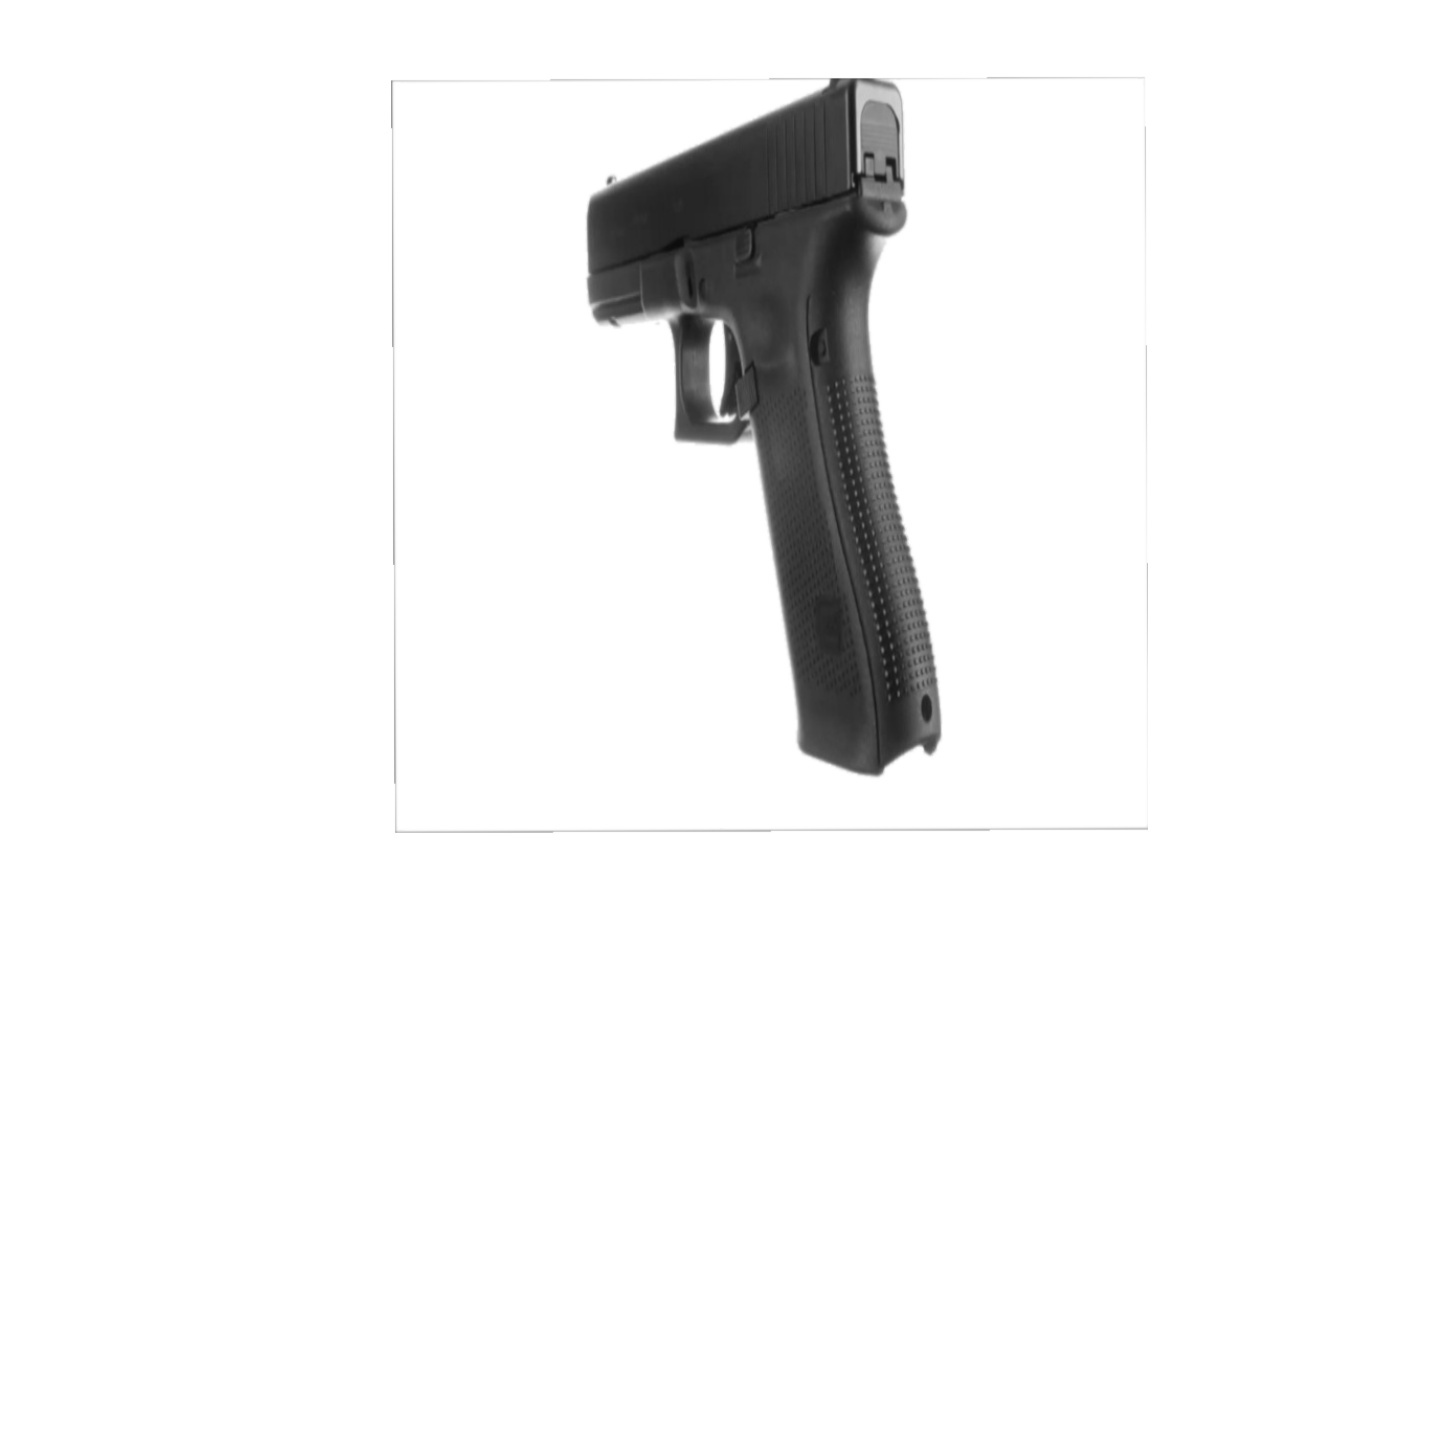gun: (587, 79, 943, 780)
